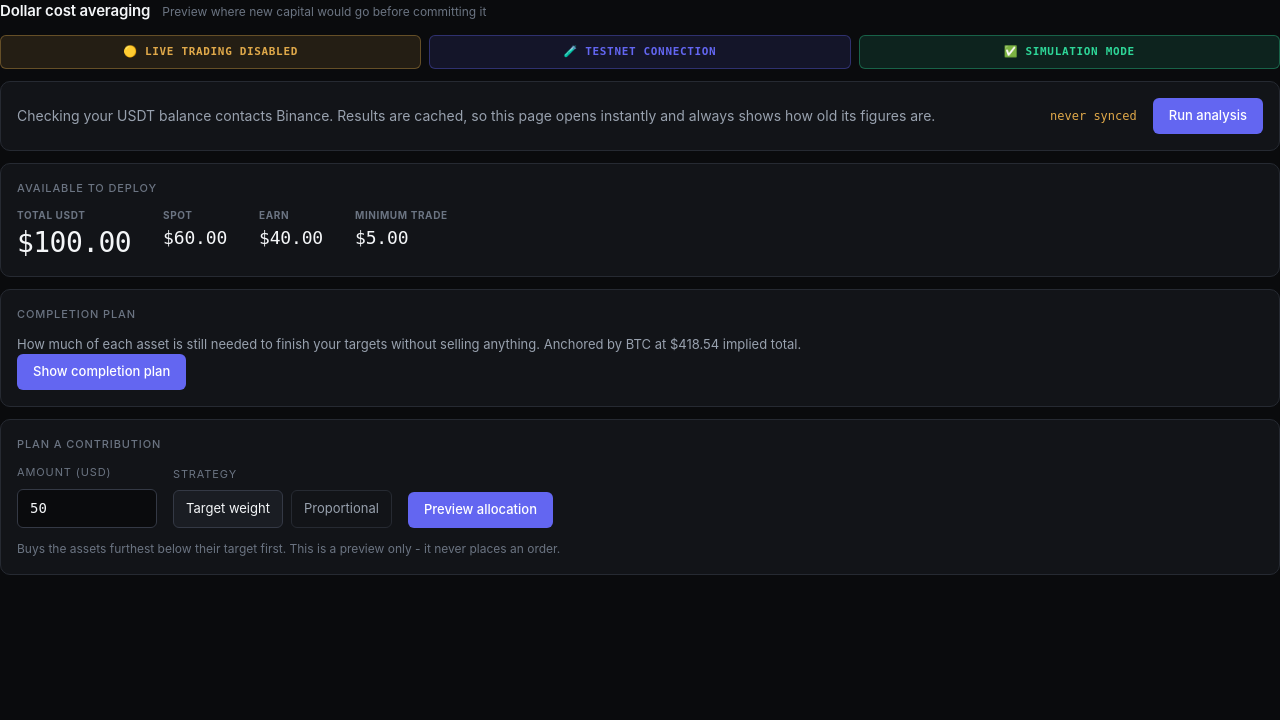
it: Dca completion plan › stays collapsed until opened, then shows anchor, total and per-asset needs
This screenshot has width=1280, height=720.
Check: the text "101.07" is not shown
Click the button "Show completion plan" at (102, 372), box [17,354,186,390]
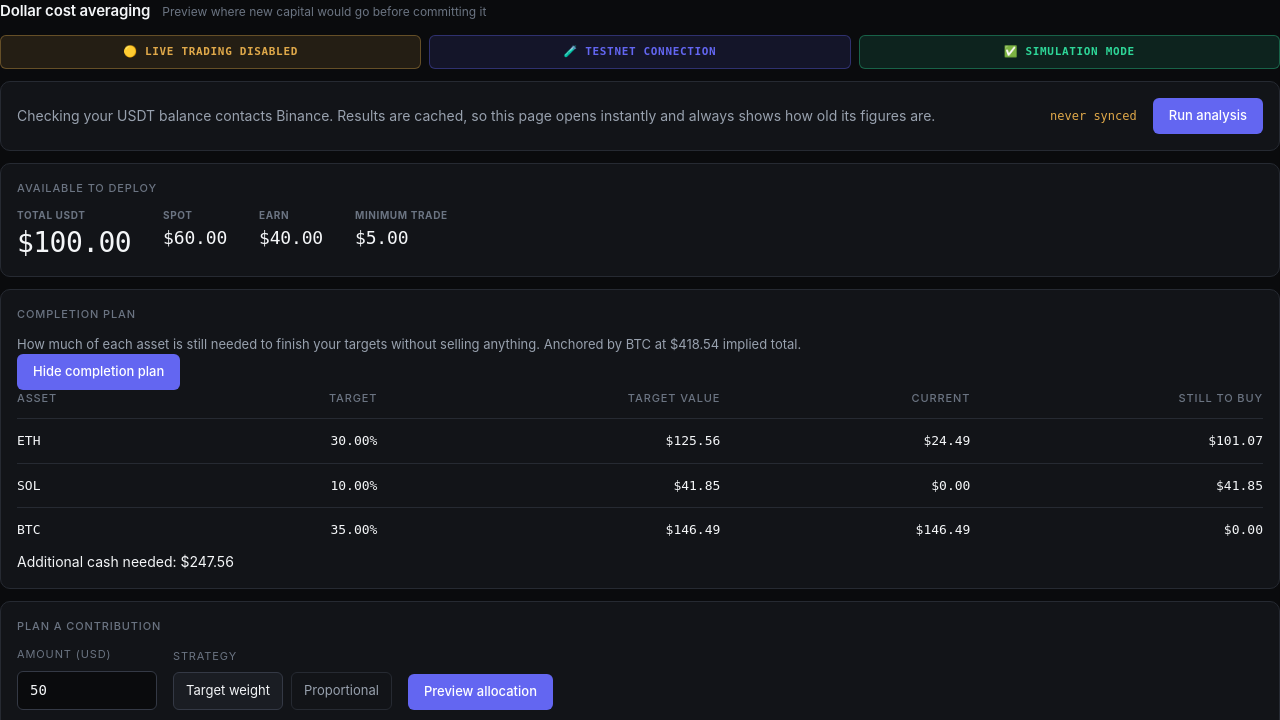
Check: the text "anchored by BTC" is shown, box [544,336,801,352]
Check: the text "$101.07" is shown, box [986,418,1263,463]
Check: the text "Additional cash needed: $247.56" is shown, box [17,552,234,570]
